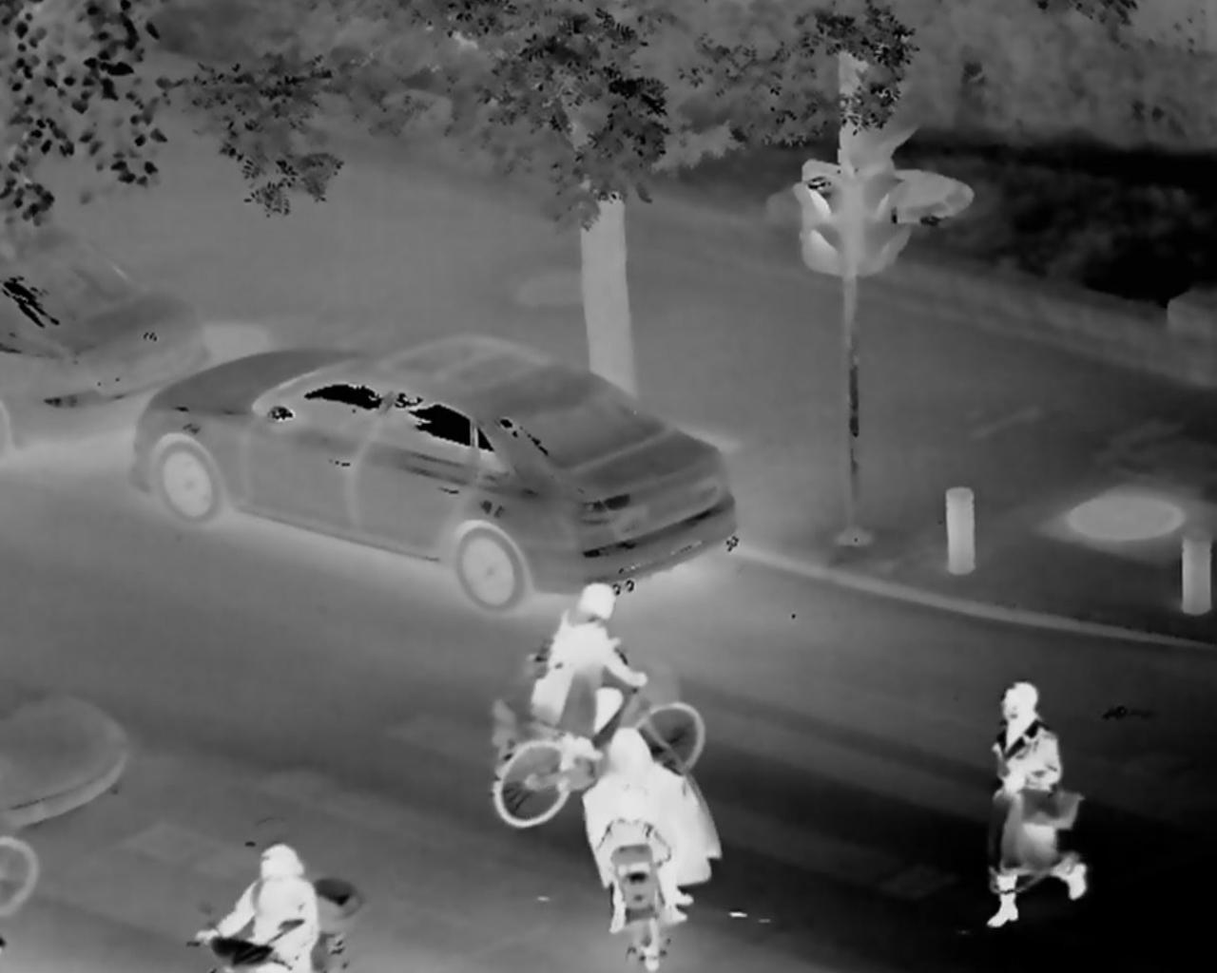person: (495, 575, 635, 824), (578, 729, 734, 948), (974, 677, 1099, 933), (192, 840, 352, 973)
